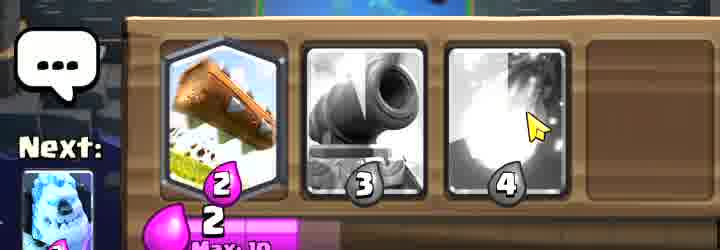cannon: (304, 57, 390, 178)
ice-golem: (25, 171, 93, 249)
log: (168, 43, 281, 188)
